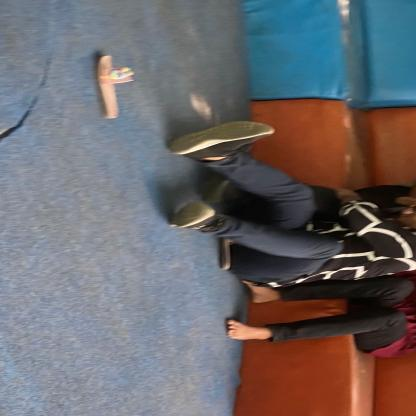leg: (152, 114, 313, 188), (141, 200, 329, 247), (188, 308, 383, 350), (224, 268, 410, 308)
